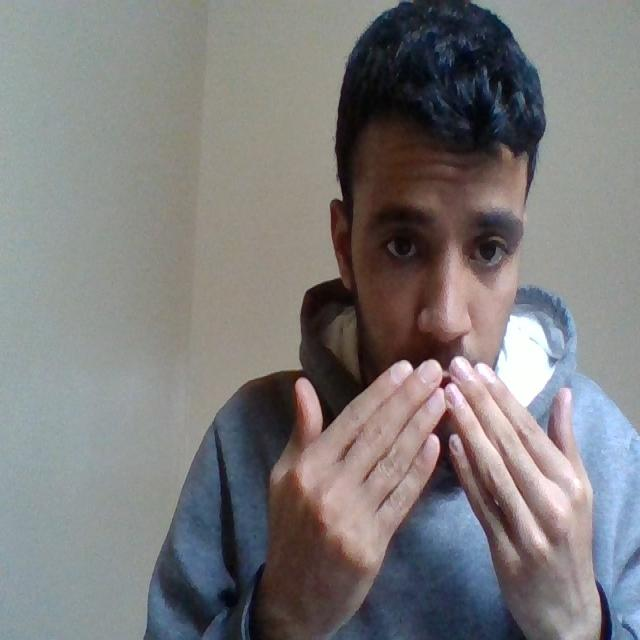Thanks: (252, 354, 628, 638)
